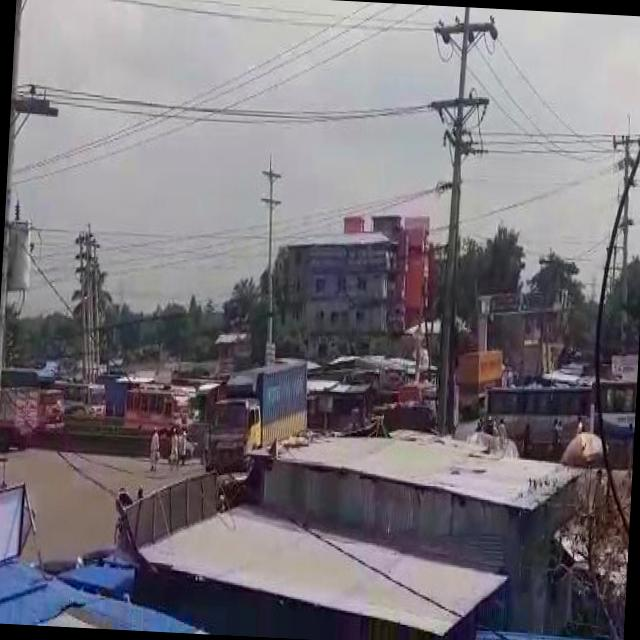bus: (479, 383, 596, 460), (122, 379, 188, 438), (592, 369, 636, 435), (0, 370, 37, 444), (52, 377, 106, 420)
truck: (207, 354, 309, 460), (456, 344, 505, 418)
